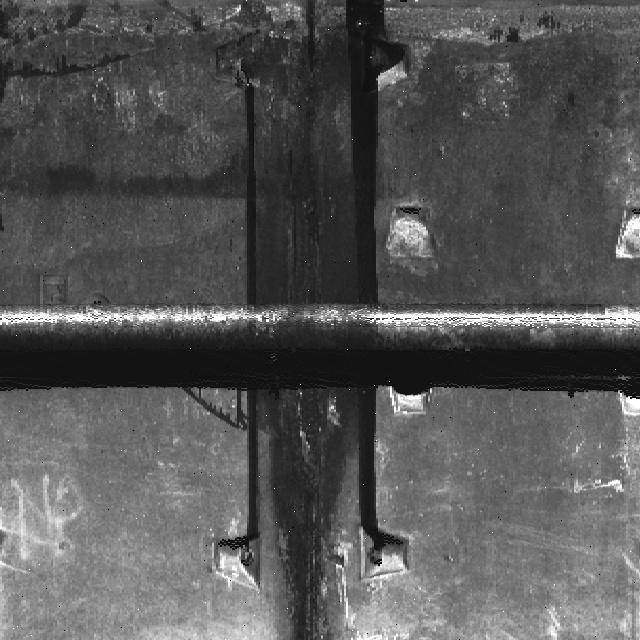leakage: (229, 0, 402, 301), (234, 379, 393, 639)
